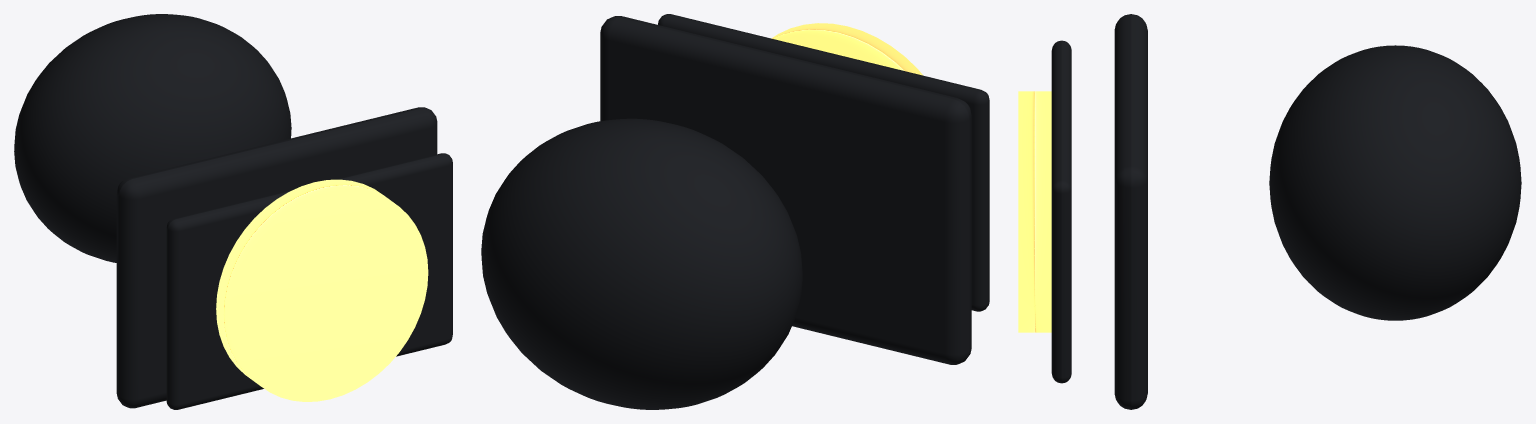
File: p2s_video_so_ong_gravastar_mars_pro.proxy.glb
3 views of the same model, side by side, from view 1: azimuth 30°, elevation 25°; view 2: azimuth 150°, elevation 25°; view 3: azimuth 270°, elevation 25° (orthographic). The views are drawn at different scales.
Parts seen in each view (by area): view 1: repair_mars_black_rounded_body, repair_mars_driver, repair_mars_flat_front, repair_mars_black_plate; view 2: repair_mars_black_rounded_body, repair_mars_flat_front, repair_mars_black_plate, repair_mars_driver; view 3: repair_mars_black_rounded_body, repair_mars_flat_front, repair_mars_driver, repair_mars_black_plate.
Part boxes in pixels (x1,y1,x2,y2): repair_mars_black_rounded_body: [14, 14, 291, 262]; repair_mars_driver: [216, 179, 428, 401]; repair_mars_flat_front: [116, 107, 437, 408]; repair_mars_black_plate: [166, 153, 452, 409]; repair_mars_black_rounded_body: [481, 118, 802, 409]; repair_mars_flat_front: [600, 16, 971, 364]; repair_mars_black_plate: [658, 14, 989, 311]; repair_mars_driver: [771, 23, 922, 75]; repair_mars_black_rounded_body: [1269, 45, 1521, 320]; repair_mars_flat_front: [1114, 14, 1147, 409]; repair_mars_driver: [1018, 91, 1051, 332]; repair_mars_black_plate: [1051, 40, 1071, 383].
Bounding box in the file's own units: 0.1166 × 0.0898 × 0.1508.
